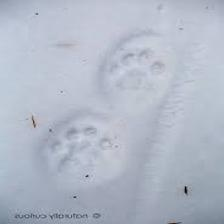cat: (45, 124, 116, 186), (104, 49, 165, 100)
